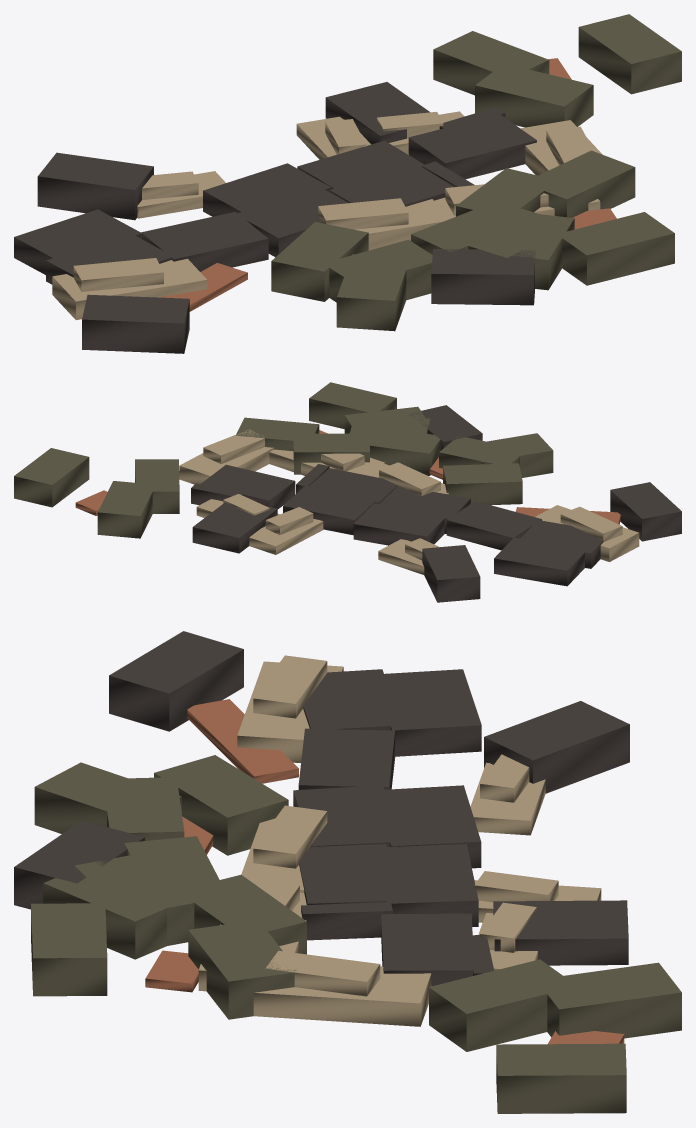
File: SM_SacosRemateEspejo_v3_Tablon_e3_Brecha_LOD0.fbx
3 views of the same model, one above another, from view 1: azimuth 30°, elevation 25°; view 2: azimuth 150°, elevation 25°; view 3: azimuth 270°, elevation 25° (orthographic). The views are drawn at different scales.
Visible parts, largest first — view 1: SM_sacos_piezas_v35_LOD0; view 2: SM_sacos_piezas_v35_LOD0; view 3: SM_sacos_piezas_v35_LOD0.
Part boxes in pixels (x1,y1,x2,y2): SM_sacos_piezas_v35_LOD0: [14, 14, 681, 353]; SM_sacos_piezas_v35_LOD0: [14, 382, 681, 602]; SM_sacos_piezas_v35_LOD0: [14, 631, 681, 1113].
Size of the model in its own units: 6.52 by 0.26 by 4.14.
